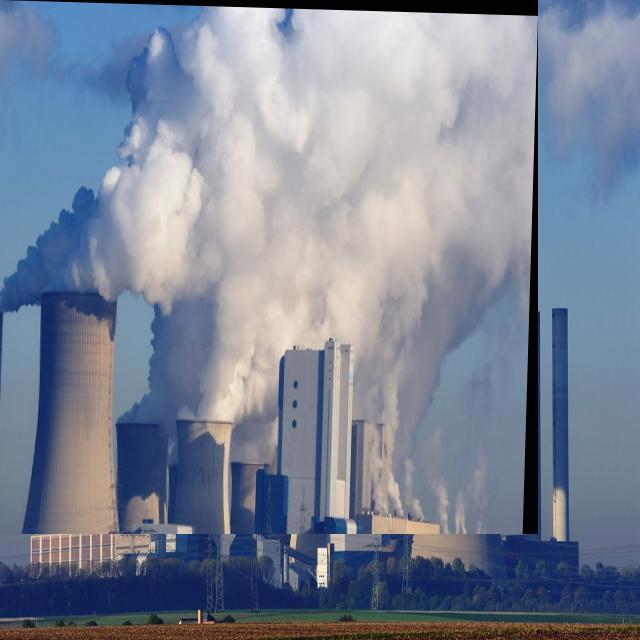smoke: (123, 6, 532, 172), (193, 176, 528, 345), (0, 155, 195, 311), (116, 321, 278, 422), (354, 344, 450, 422), (372, 376, 417, 514), (421, 432, 452, 520), (452, 463, 488, 530)
